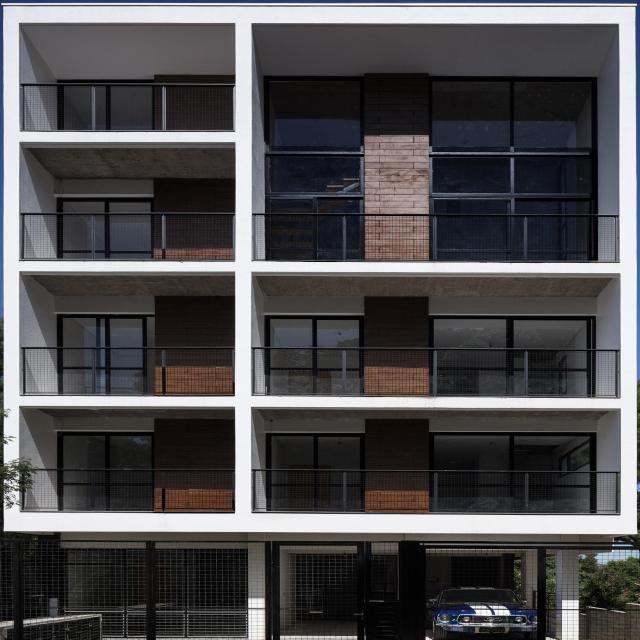railing: (248, 211, 622, 260), (250, 344, 616, 394), (249, 465, 615, 510), (18, 207, 231, 256), (18, 348, 230, 397), (23, 465, 235, 513), (20, 81, 232, 128)
window: (430, 75, 595, 212), (261, 74, 364, 211), (430, 433, 598, 466), (428, 312, 596, 344), (55, 312, 154, 346), (267, 431, 362, 465), (54, 432, 152, 464), (261, 312, 359, 343), (54, 194, 151, 208)
